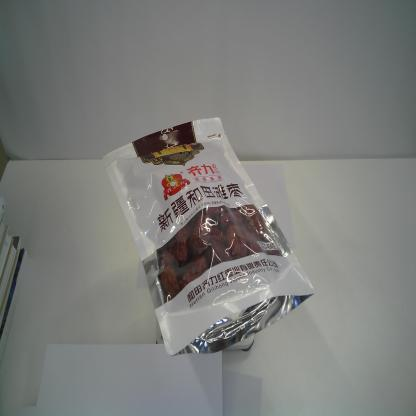Dried Food: (101, 114, 316, 357)
